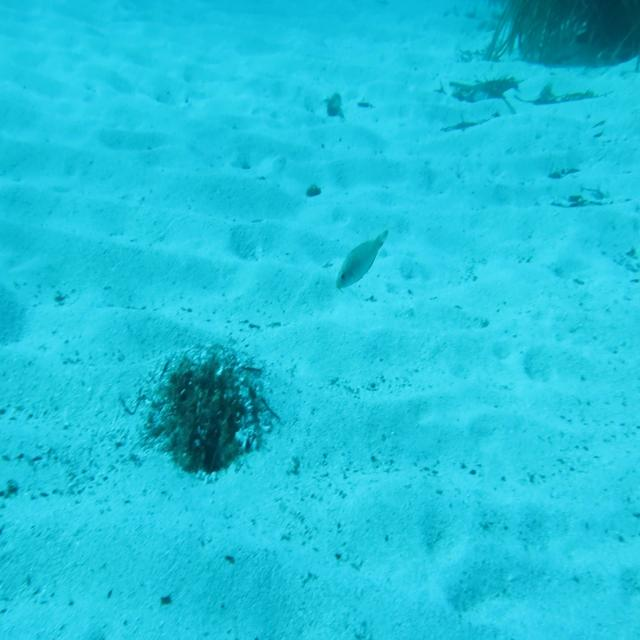AM: (334, 227, 391, 293)
nest: (133, 341, 280, 485)
vegetation: (494, 0, 640, 67), (335, 286, 344, 295)
